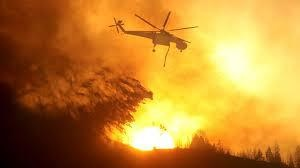fire: (115, 103, 193, 152)
